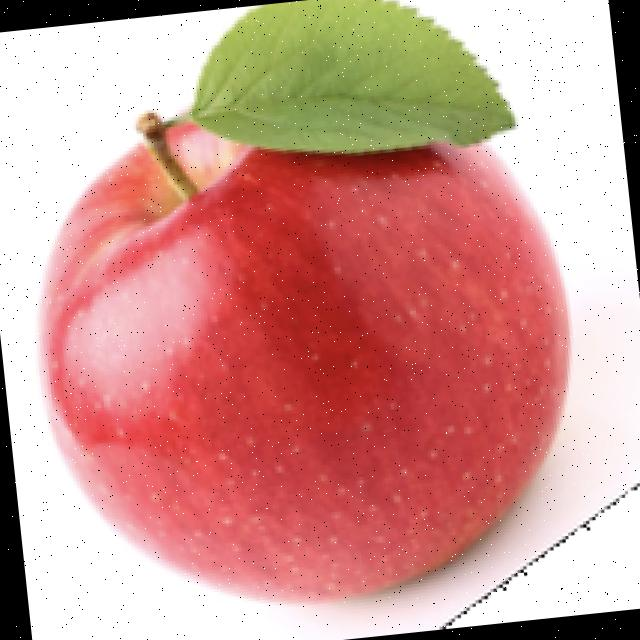apple: (30, 0, 640, 628)
